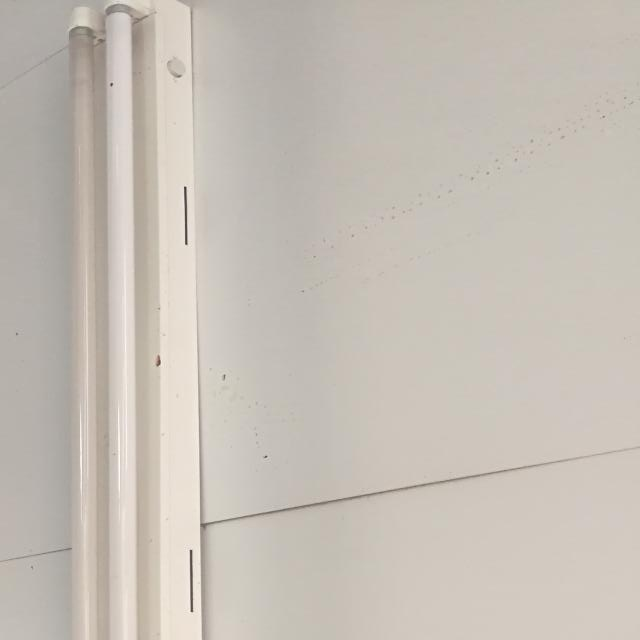fluorescent tube: (23, 5, 225, 640)
